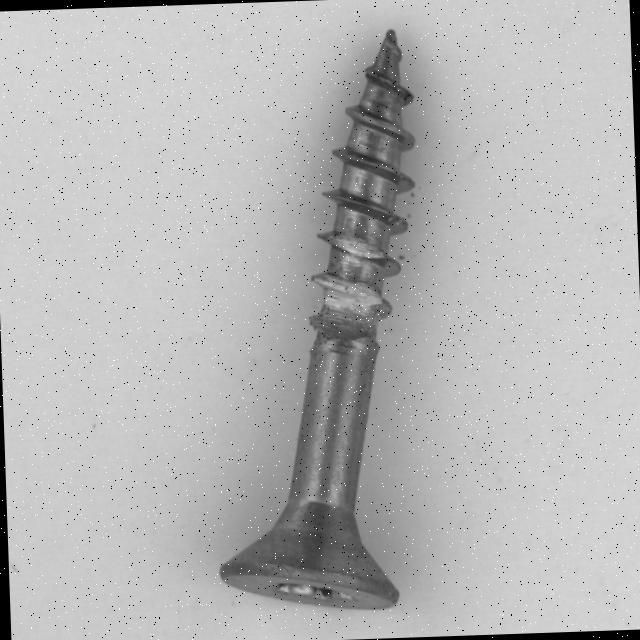thread_top: (308, 227, 392, 355)
